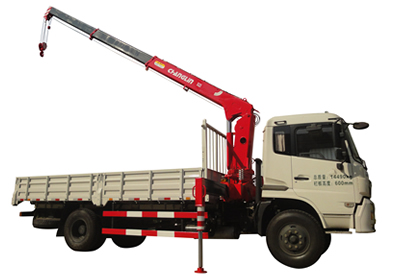truck: (7, 1, 378, 267)
